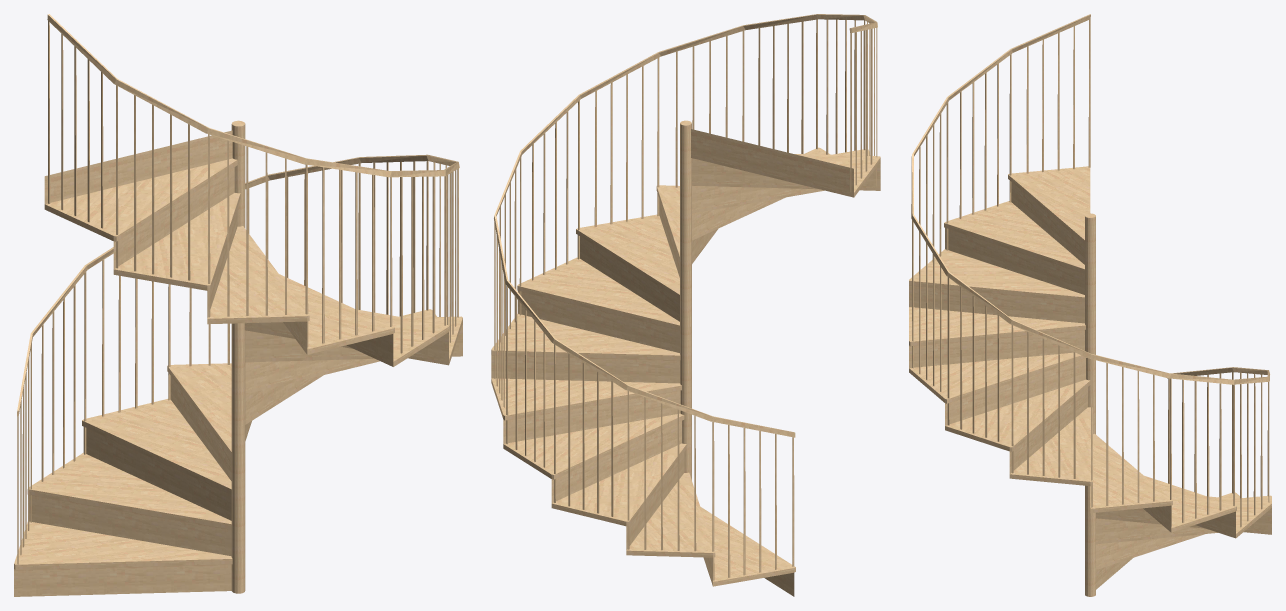
Rendered from sweethome3d-contributions-spiral-staircase-440.glb.
3 views of the same model, side by side, from view 1: azimuth 30°, elevation 25°; view 2: azimuth 150°, elevation 25°; view 3: azimuth 270°, elevation 25° (orthographic). The views are drawn at different scales.
Parts seen in each view (by area): view 1: 3_3, 16_16, 14, 37, 1_1; view 2: 3_3, 16_16, 14, 37, 1_1; view 3: 3_3, 16_16, 14, 37, 1_1.
Part boxes in pixels (x1=…): 3_3: x1=14, y1=158, x2=462, y2=570; 16_16: x1=14, y1=130, x2=462, y2=596; 14: x1=17, y1=21, x2=458, y2=564; 37: x1=17, y1=14, x2=459, y2=416; 1_1: x1=231, y1=120, x2=245, y2=593; 3_3: x1=491, y1=147, x2=880, y2=586; 16_16: x1=491, y1=129, x2=880, y2=596; 14: x1=494, y1=19, x2=877, y2=580; 37: x1=494, y1=14, x2=877, y2=437; 1_1: x1=680, y1=120, x2=691, y2=479; 3_3: x1=909, y1=166, x2=1271, y2=569; 16_16: x1=909, y1=182, x2=1271, y2=589; 14: x1=912, y1=19, x2=1269, y2=527; 37: x1=911, y1=14, x2=1270, y2=384; 1_1: x1=1085, y1=213, x2=1095, y2=596.
Size of the model in its own units: 230 by 353 by 230.
5 materials, 5 textured.
